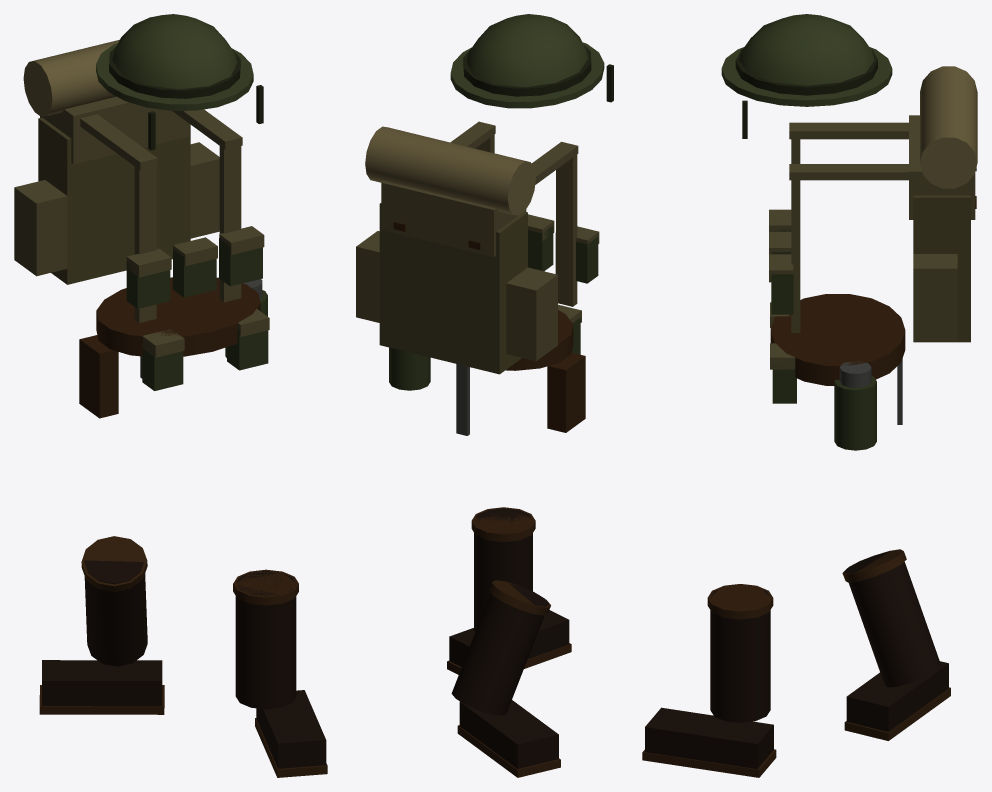
Rendered from uitrusting.glb.
3 renders of one model, left to right at view 1: azimuth 30°, elevation 25°; view 2: azimuth 150°, elevation 25°; view 3: azimuth 270°, elevation 25°, orthographic. The views are drawn at different scales.
Visible parts, largest first — view 1: Rugzak_Mesh, Koppel_Mesh, LaarsR_Mesh, LaarsL_Mesh, Helm_Mesh; view 2: Rugzak_Mesh, LaarsR_Mesh, Helm_Mesh, LaarsL_Mesh, Koppel_Mesh; view 3: Rugzak_Mesh, LaarsL_Mesh, Koppel_Mesh, LaarsR_Mesh, Helm_Mesh.
Part boxes in pixels (box(x1,y1,x2,y2)): Rugzak_Mesh: box(14, 39, 264, 322); Koppel_Mesh: box(79, 277, 269, 418); LaarsR_Mesh: box(39, 536, 164, 714); LaarsL_Mesh: box(233, 569, 327, 777); Helm_Mesh: box(96, 14, 263, 150); Rugzak_Mesh: box(356, 121, 599, 374); LaarsR_Mesh: box(451, 580, 560, 777); Helm_Mesh: box(450, 14, 613, 108); LaarsL_Mesh: box(447, 507, 571, 674); Koppel_Mesh: box(389, 304, 585, 435); Rugzak_Mesh: box(769, 66, 977, 342); LaarsL_Mesh: box(642, 584, 776, 777); Koppel_Mesh: box(770, 294, 905, 450); LaarsR_Mesh: box(842, 549, 950, 740); Helm_Mesh: box(721, 14, 892, 138).
Bounding box in the file's own units: 0.518 × 1.76 × 0.7562.
